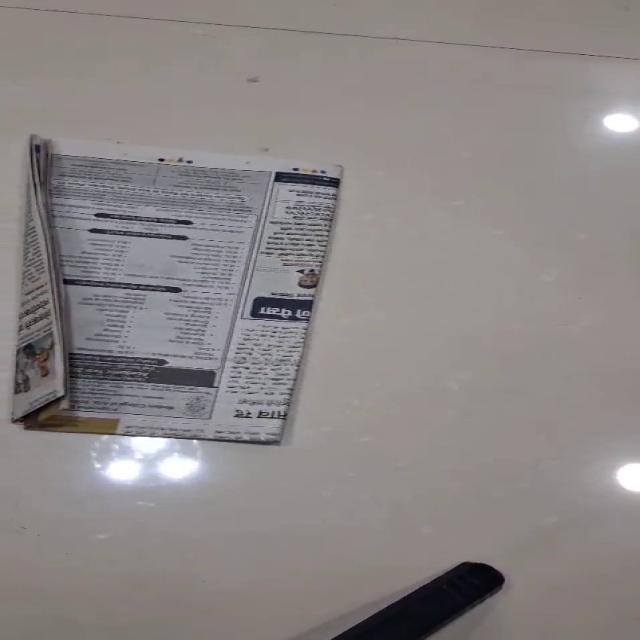paper: (13, 135, 344, 445)
